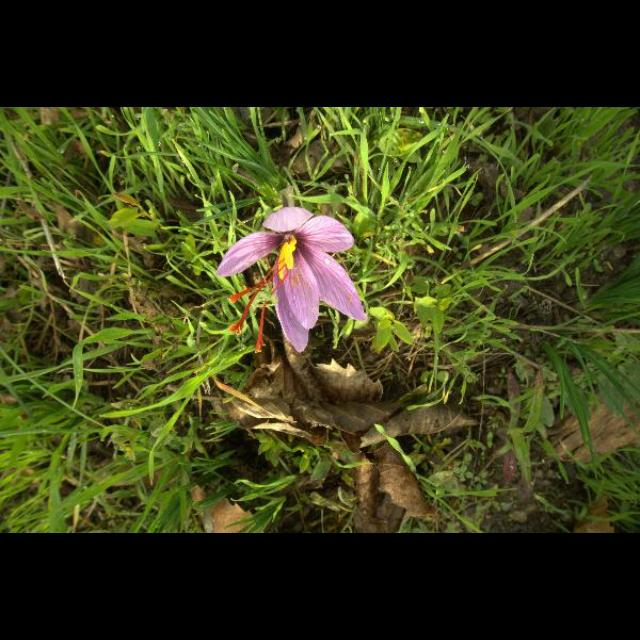flower: (216, 208, 368, 352)
